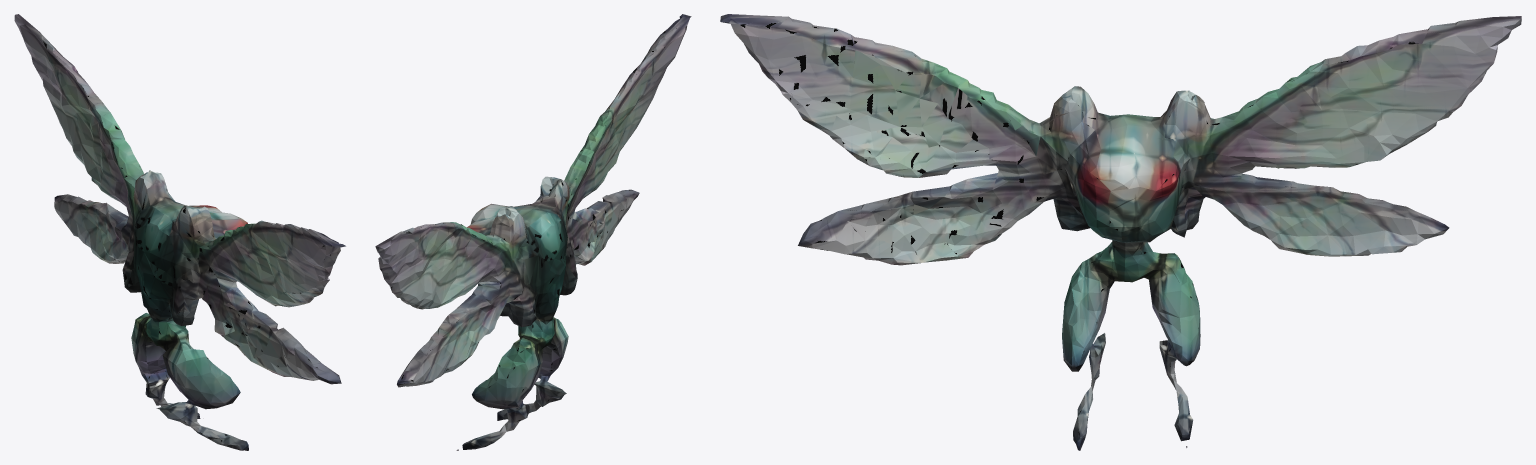
The model's file is minion_air_2.glb.
The picture shows the model from 3 angles, left to right: view 1: azimuth 30°, elevation 25°; view 2: azimuth 150°, elevation 25°; view 3: azimuth 270°, elevation 25°; orthographic projection. The views are drawn at different scales.
Visible parts, largest first — view 1: zzzz4; view 2: zzzz4; view 3: zzzz4.
Boxes of the visible parts, bbox=[...] form: zzzz4: bbox=[14, 14, 345, 450]; zzzz4: bbox=[375, 14, 691, 450]; zzzz4: bbox=[720, 14, 1521, 450].
Size of the model in its own units: 0.5769 by 1.75 by 3.15.
1 material, 1 textured.
